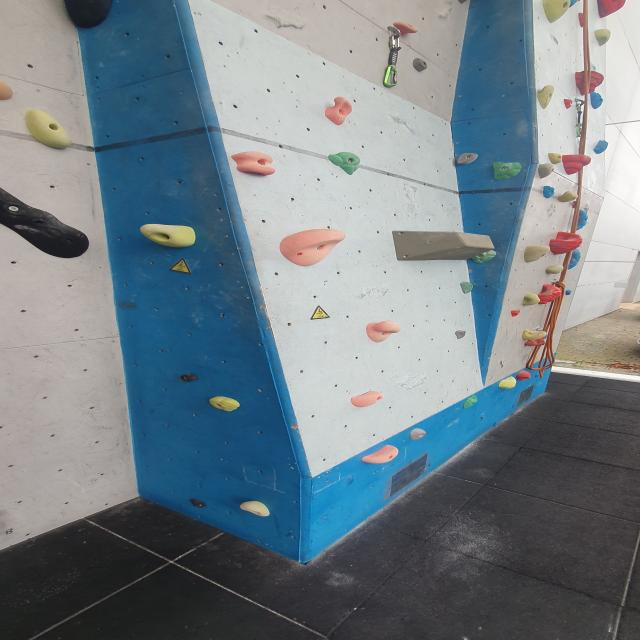Crimp: (326, 151, 363, 175), (360, 445, 400, 467), (206, 393, 244, 414), (350, 390, 386, 407), (469, 250, 498, 264), (498, 375, 518, 389), (539, 163, 556, 179), (593, 140, 610, 155), (463, 395, 481, 409), (541, 185, 557, 199), (547, 152, 562, 164), (455, 329, 469, 340), (512, 310, 522, 317)
Jug: (138, 222, 199, 249), (230, 153, 278, 180), (320, 96, 358, 126), (364, 320, 403, 343), (548, 232, 585, 255), (540, 0, 574, 25), (572, 70, 604, 96), (236, 500, 277, 518), (561, 155, 594, 177), (596, 0, 632, 20), (533, 84, 557, 109), (537, 283, 563, 305), (523, 244, 550, 262), (392, 23, 421, 37), (519, 328, 548, 340), (554, 191, 582, 202), (522, 292, 542, 307), (545, 264, 564, 274)
Pinch: (22, 105, 78, 154), (492, 162, 524, 181), (573, 208, 590, 232), (406, 426, 430, 442), (568, 248, 582, 270), (458, 280, 474, 294), (179, 372, 200, 382)
Sloper: (0, 182, 94, 263), (278, 229, 348, 267), (516, 369, 533, 380)
